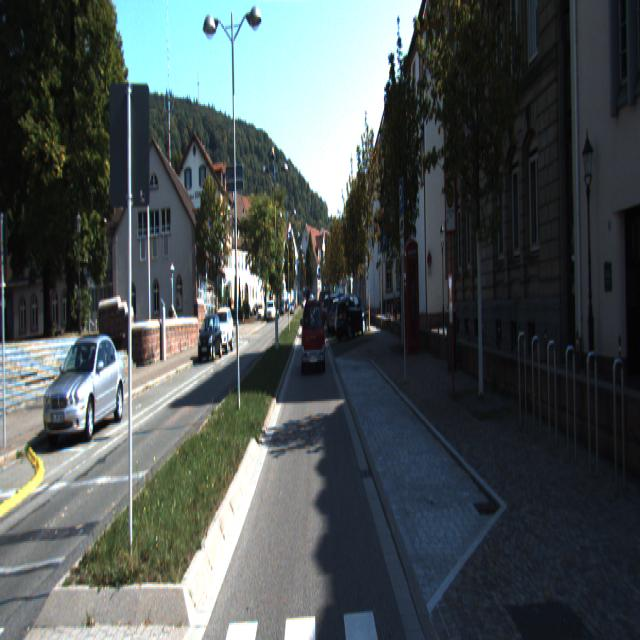Car: (43, 332, 127, 440), (302, 300, 326, 374), (336, 293, 368, 341), (197, 316, 223, 363), (329, 296, 360, 333), (211, 309, 234, 355)
DontCare: (251, 290, 296, 320)
